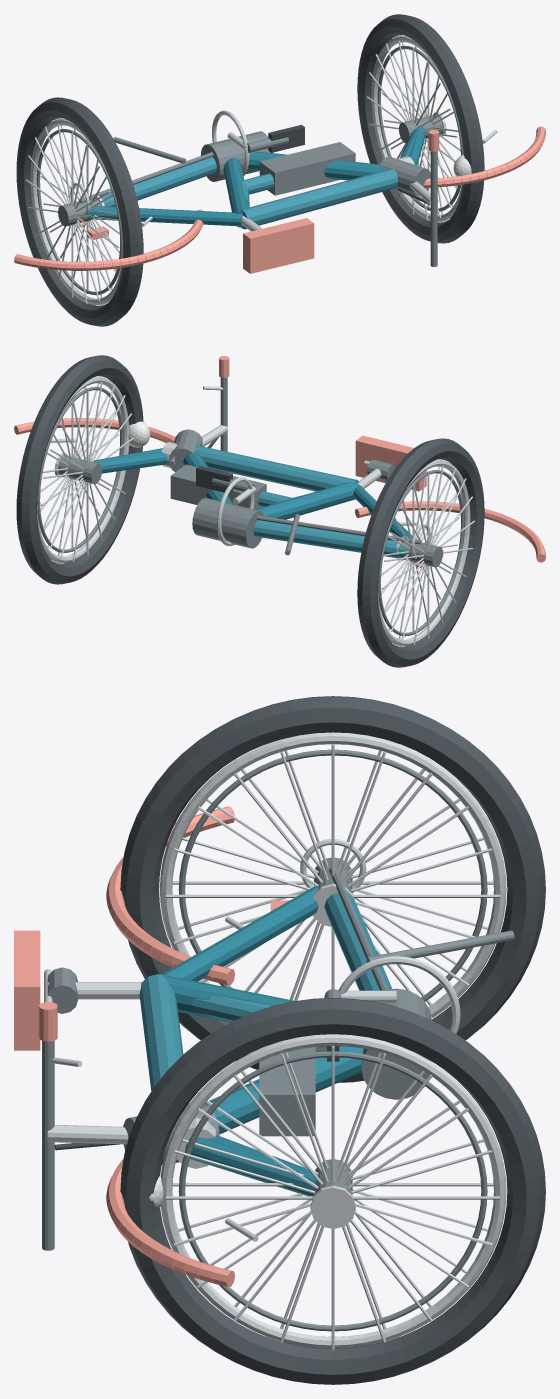
Rendered from lumira-city-bike.glb.
3 renders of one model, top to bottom at view 1: azimuth 30°, elevation 25°; view 2: azimuth 150°, elevation 25°; view 3: azimuth 270°, elevation 25°, orthographic. The views are drawn at different scales.
Visible parts, largest first — view 1: rear_tire, front_tire, top_tube, coral_saddle, integrated_battery, rear_rim, seat_stay, chain_stay, front_rim, rear_inner_rim, down_tube, bottom_bracket (+11 smaller); view 2: rear_tire, front_tire, top_tube, bottom_bracket, chain_stay, rear_rim, seat_tube, front_rim, coral_saddle, integrated_battery, rear_inner_rim, front_inner_rim (+11 smaller); view 3: front_tire, rear_tire, front_rim, rear_rim, front_inner_rim, rear_inner_rim, seat_stay, integrated_battery, top_tube, coral_saddle, down_tube, handlebar (+12 smaller).
Boxes of the visible parts, x1,y1,x2,y2 form: rear_tire: (16,97,143,326); front_tire: (357,14,484,243); top_tube: (240,169,397,229); coral_saddle: (243,218,314,273); integrated_battery: (259,142,355,195); rear_rim: (30,118,122,305); seat_stay: (88,206,242,226); chain_stay: (101,157,216,206); front_rim: (371,35,463,222); rear_inner_rim: (36,129,122,295); down_tube: (248,151,386,180); bottom_bracket: (200,131,273,181); rear_tire: (357,438,484,667); front_tire: (16,355,143,584); top_tube: (195,445,358,491); bottom_bracket: (192,498,264,548); chain_stay: (253,520,406,557); rear_rim: (378,459,470,646); seat_tube: (255,481,358,519); front_rim: (37,376,129,563); coral_saddle: (355,435,426,491); integrated_battery: (170,464,266,509); rear_inner_rim: (378,470,464,636); front_inner_rim: (37,386,123,552); front_tire: (120,998,545,1384); rear_tire: (120,696,545,1082); front_rim: (160,1034,506,1348); rear_rim: (159,732,506,1046); front_inner_rim: (178,1051,487,1331); rear_inner_rim: (178,749,487,1001); seat_stay: (162,886,318,981); integrated_battery: (259,1041,315,1136); top_tube: (139,974,189,1107); coral_saddle: (14,930,40,1050); down_tube: (204,1046,363,1133); handlebar: (42,1040,54,1250).
Bounding box in the file's own units: 3.17 × 1.21 × 1.51.
